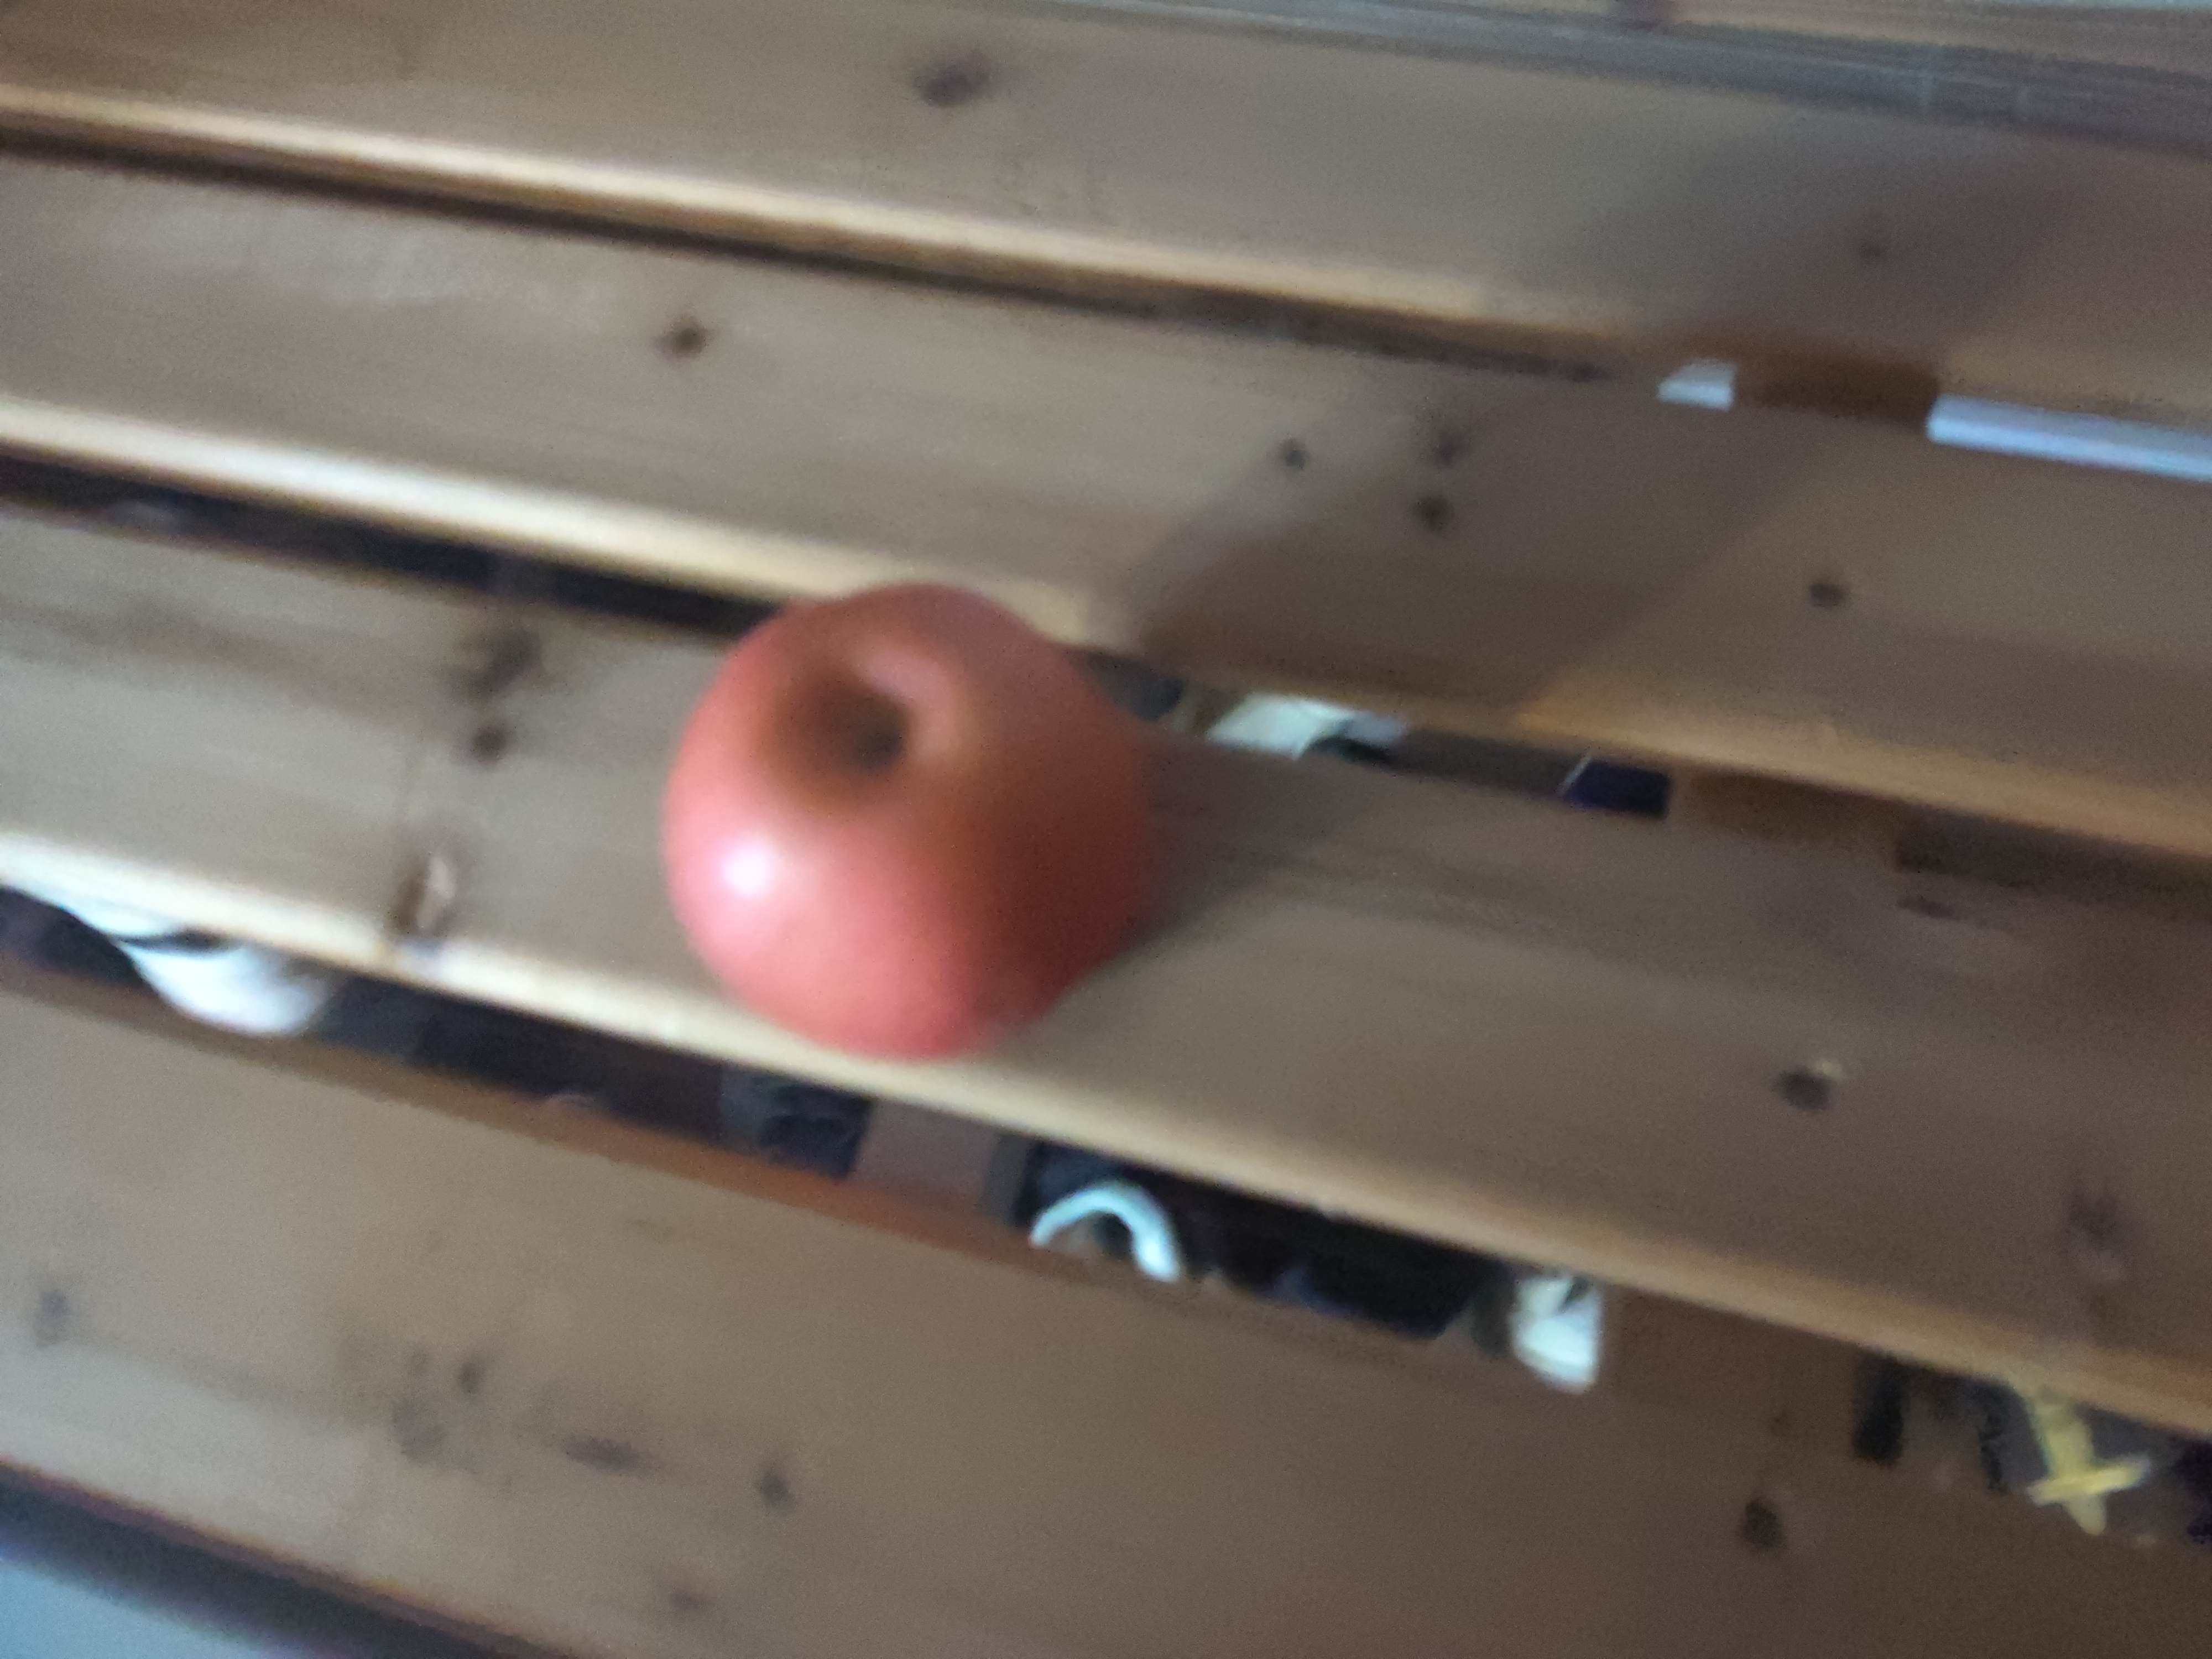apple: (660, 579, 1139, 1063)
